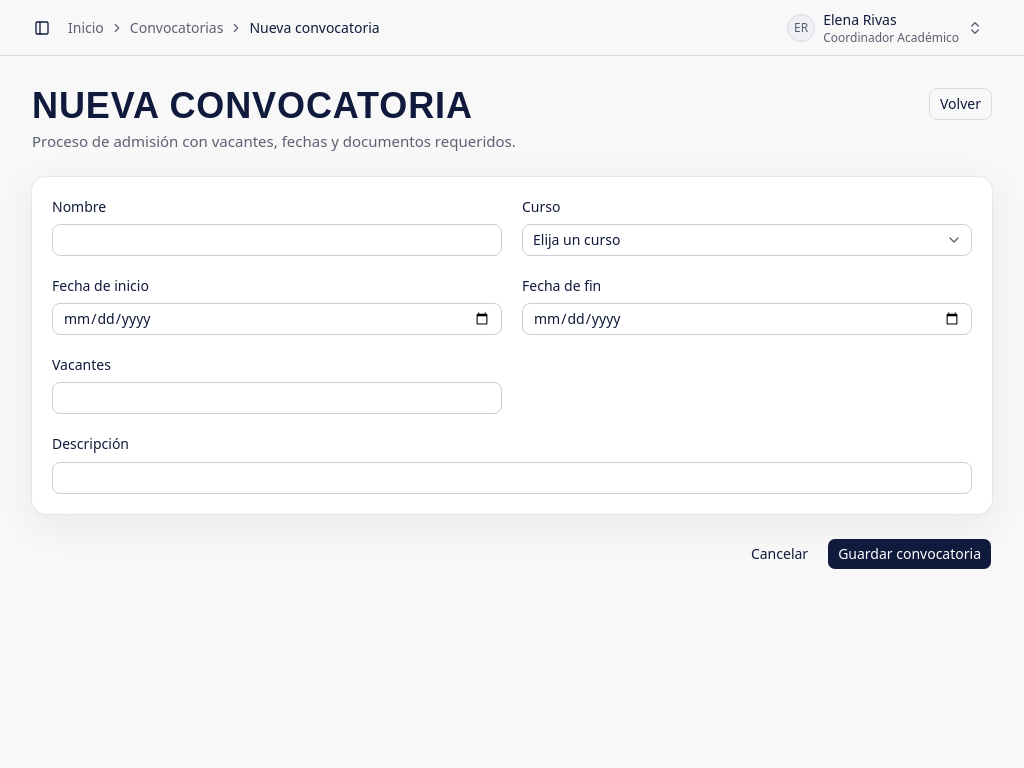
Scenario: Convocatorias (/convocatorias) › crea una convocatoria desde el formulario
Step 1. Type "Admisión 2026-II" into the field labelled "Nombre" → (277, 240), box [52,224,502,256]
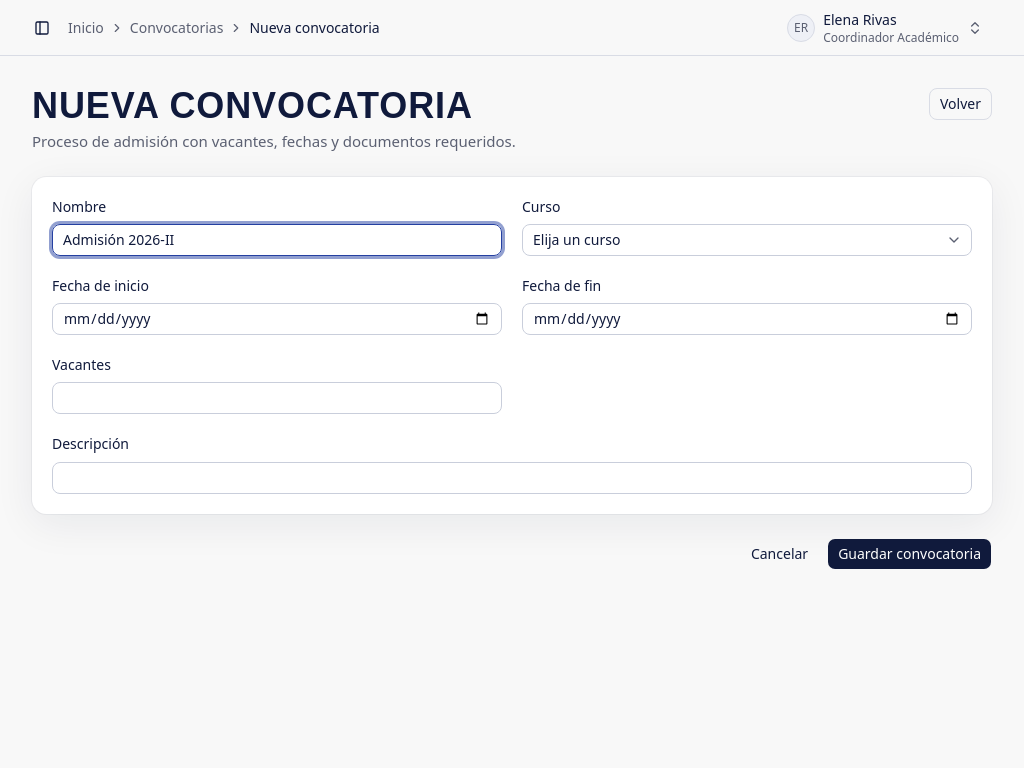
Step 2. Type "2026-07-08" into the date field labelled "Fecha de inicio" → (277, 319), box [52,303,502,335]
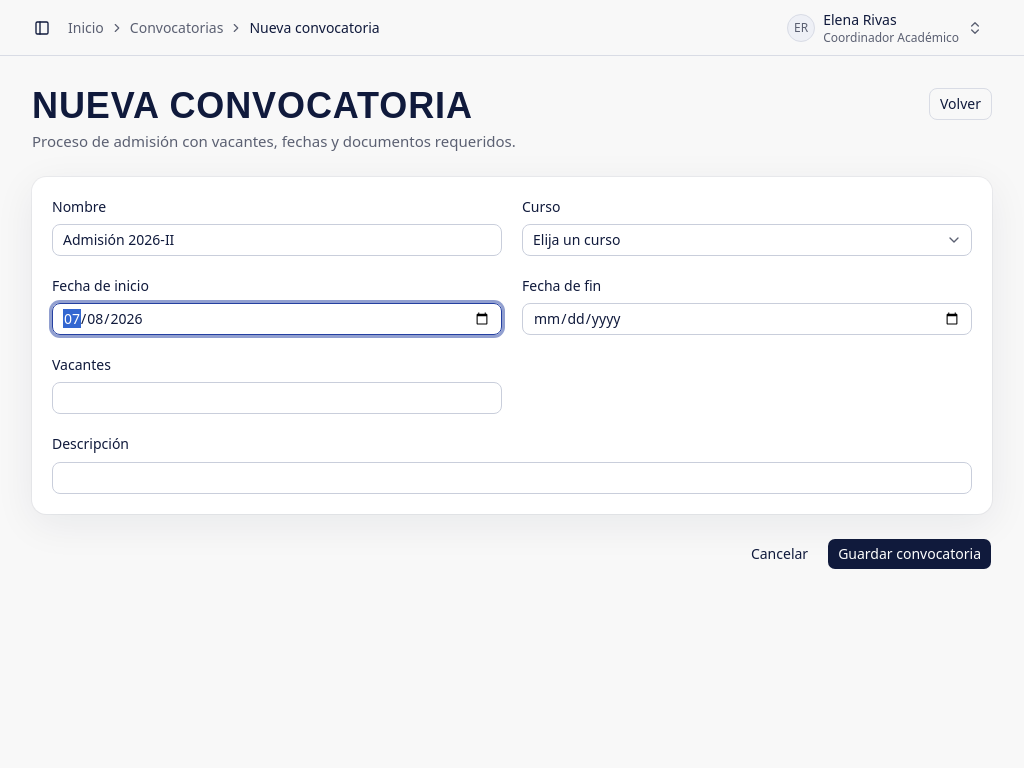
Step 3. Type "2026-07-18" into the date field labelled "Fecha de fin" → (747, 319), box [522,303,972,335]
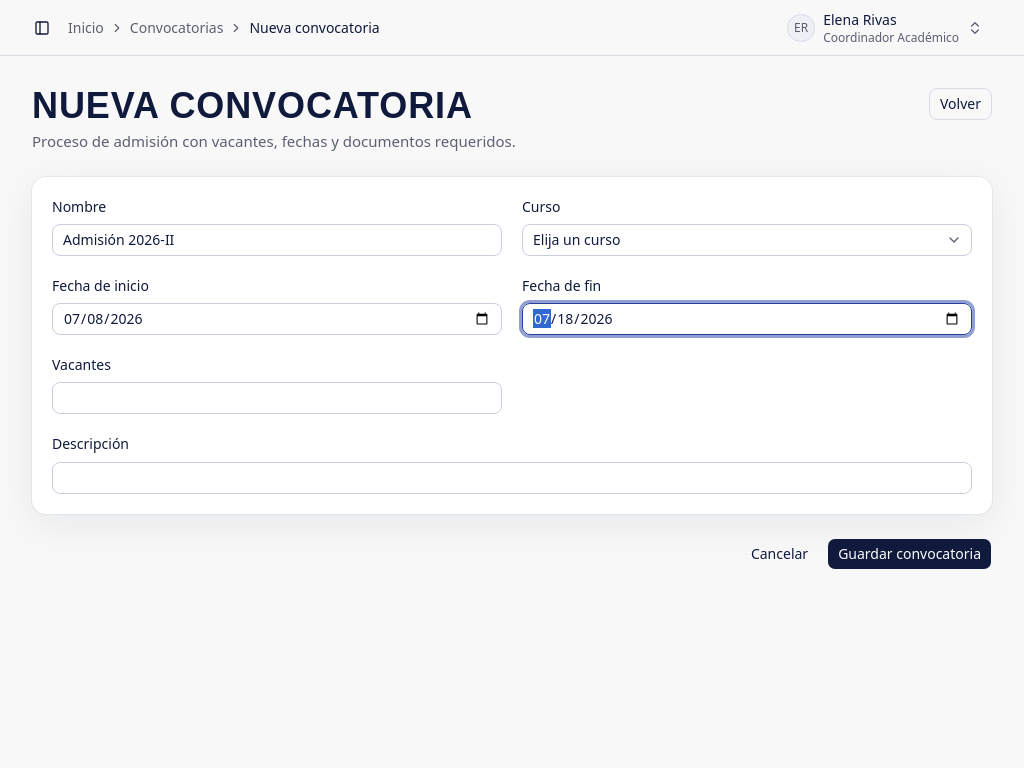
Step 4. Type "15" into the field labelled "Vacantes" → (277, 398), box [52,382,502,414]
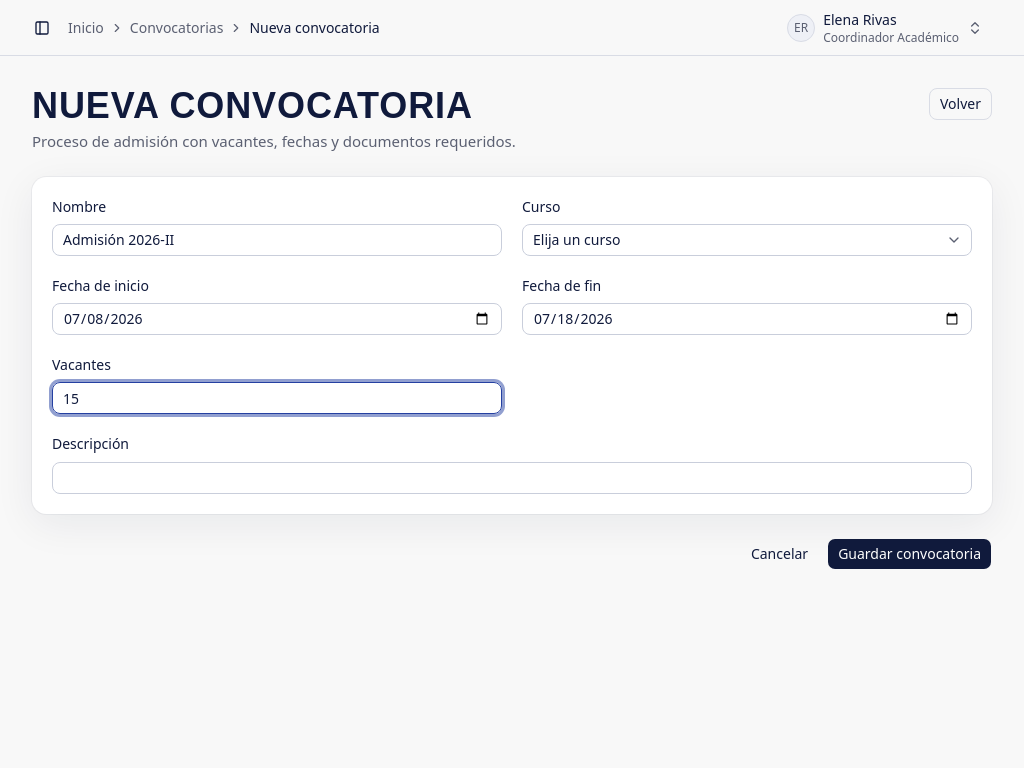
Step 5. Click the button "Guardar convocatoria" → (910, 554), box [827,538,992,570]
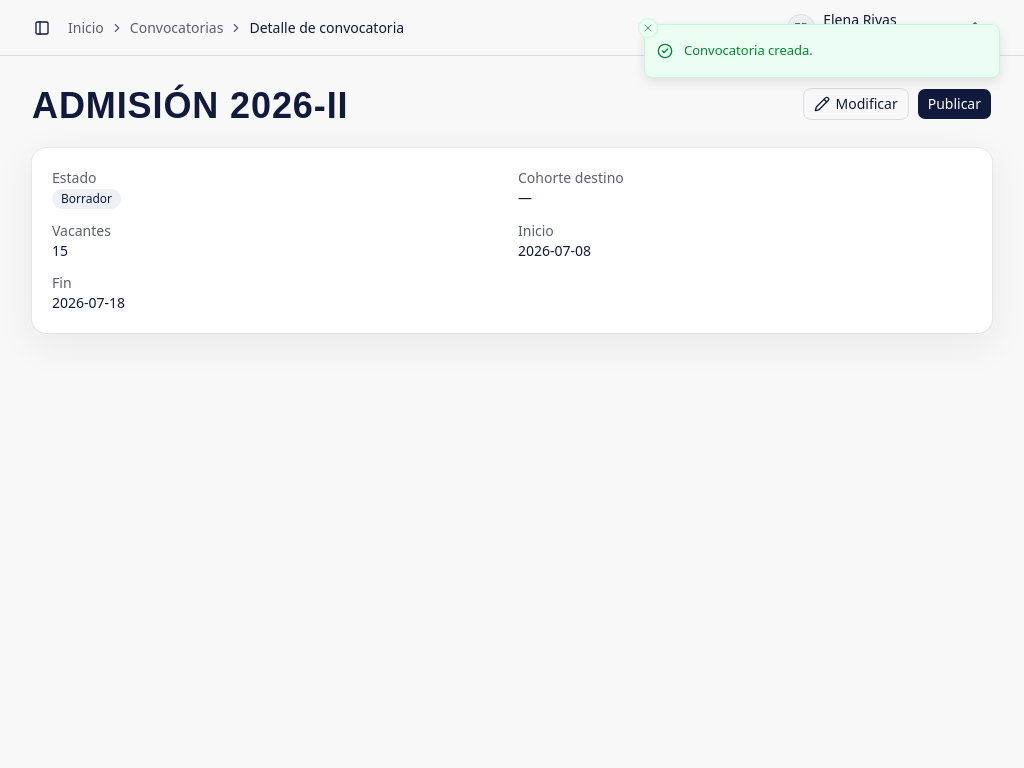
Now the heading "Admisión 2026-II" is shown, box [32,88,348,124]
Now the text "Borrador" is shown, box [52,189,121,209]
